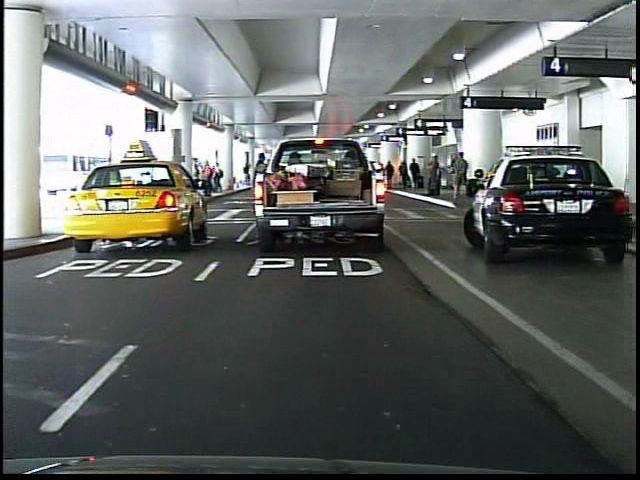person: (308, 145, 332, 205), (242, 161, 253, 188), (261, 151, 262, 207)
